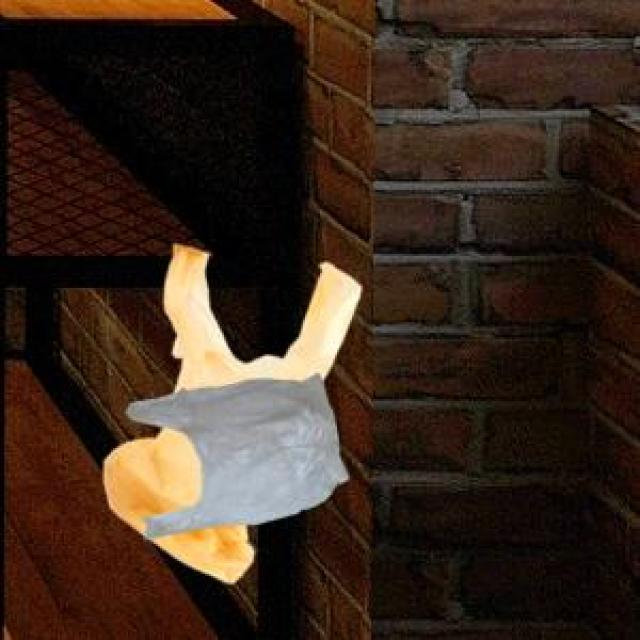plastic: (110, 188, 400, 608)
